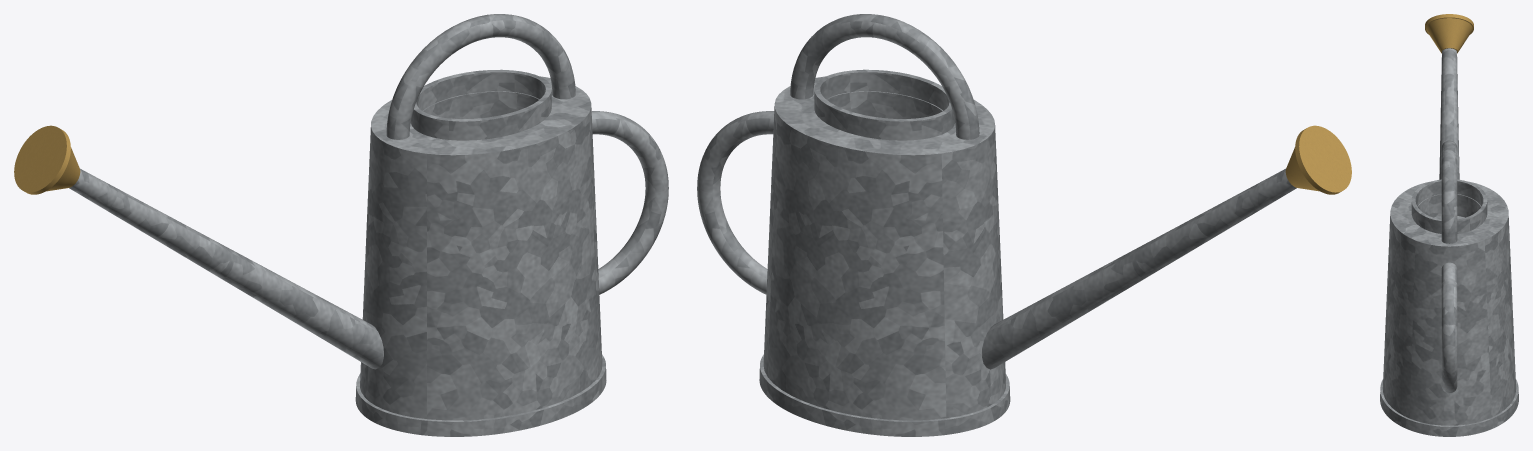
File: watering-can.glb
3 views of the same model, side by side, from view 1: azimuth 30°, elevation 25°; view 2: azimuth 150°, elevation 25°; view 3: azimuth 270°, elevation 25° (orthographic). The views are drawn at different scales.
Visible parts, largest first — view 1: Can body, Spout, Top handle, Filler neck, Back handle, Foot band, Rose face; view 2: Can body, Spout, Top handle, Filler neck, Back handle, Foot band, Rose face; view 3: Can body, Back handle, Filler neck, Spout, Foot band, Top handle, Rose neck, Rose face.
Boxes of the visible parts, x1=… form: Can body: x1=360, y1=76, x2=602, y2=420; Spout: x1=69, y1=168, x2=383, y2=369; Top handle: x1=386, y1=14, x2=575, y2=139; Filler neck: x1=410, y1=69, x2=551, y2=140; Back handle: x1=591, y1=111, x2=668, y2=294; Foot band: x1=355, y1=354, x2=606, y2=436; Rose face: x1=14, y1=125, x2=70, y2=194; Can body: x1=763, y1=76, x2=1005, y2=420; Spout: x1=982, y1=168, x2=1296, y2=369; Top handle: x1=790, y1=14, x2=979, y2=139; Filler neck: x1=814, y1=69, x2=955, y2=140; Back handle: x1=697, y1=111, x2=774, y2=294; Foot band: x1=759, y1=354, x2=1010, y2=436; Rose face: x1=1295, y1=125, x2=1351, y2=194; Can body: x1=1382, y1=181, x2=1516, y2=425; Back handle: x1=1441, y1=262, x2=1457, y2=393; Filler neck: x1=1411, y1=179, x2=1487, y2=233; Spout: x1=1439, y1=48, x2=1459, y2=179; Foot band: x1=1380, y1=379, x2=1518, y2=436; Top handle: x1=1441, y1=140, x2=1457, y2=243; Rose neck: x1=1426, y1=18, x2=1472, y2=53; Rose face: x1=1425, y1=14, x2=1473, y2=34.
Size of the model in its own units: 0.6383 by 0.352 by 0.176.
2 materials, 2 textured.
